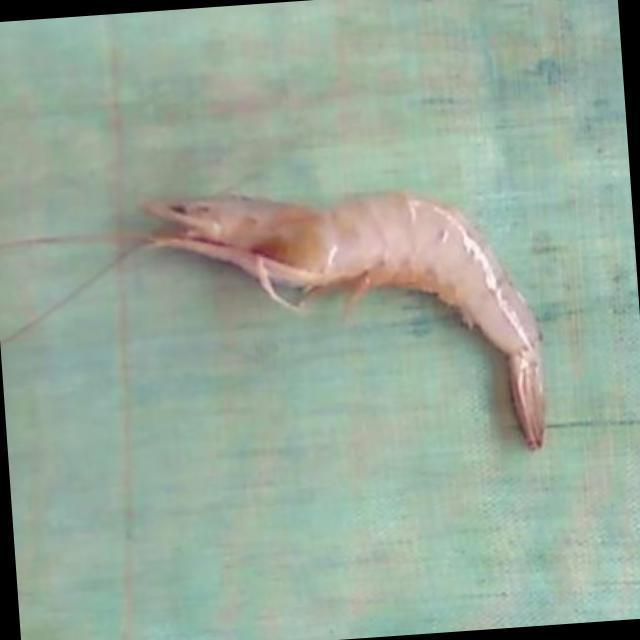shrimp: (144, 193, 546, 449)
